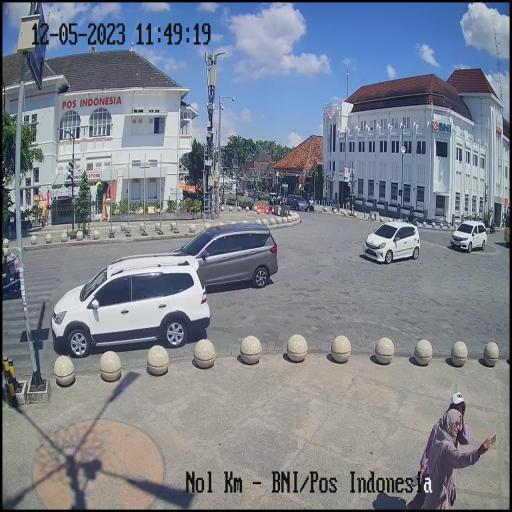mobil: (54, 255, 210, 355), (174, 223, 278, 291), (363, 218, 420, 266), (451, 219, 488, 254)
